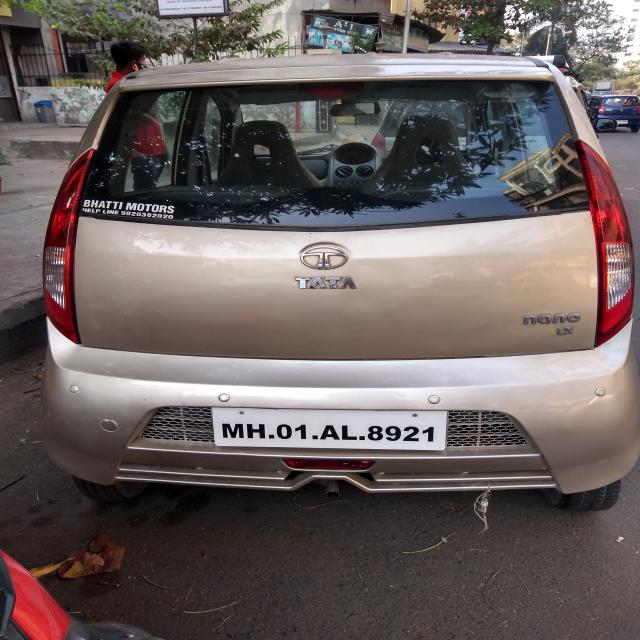Number-Plate: (181, 413, 446, 446)
